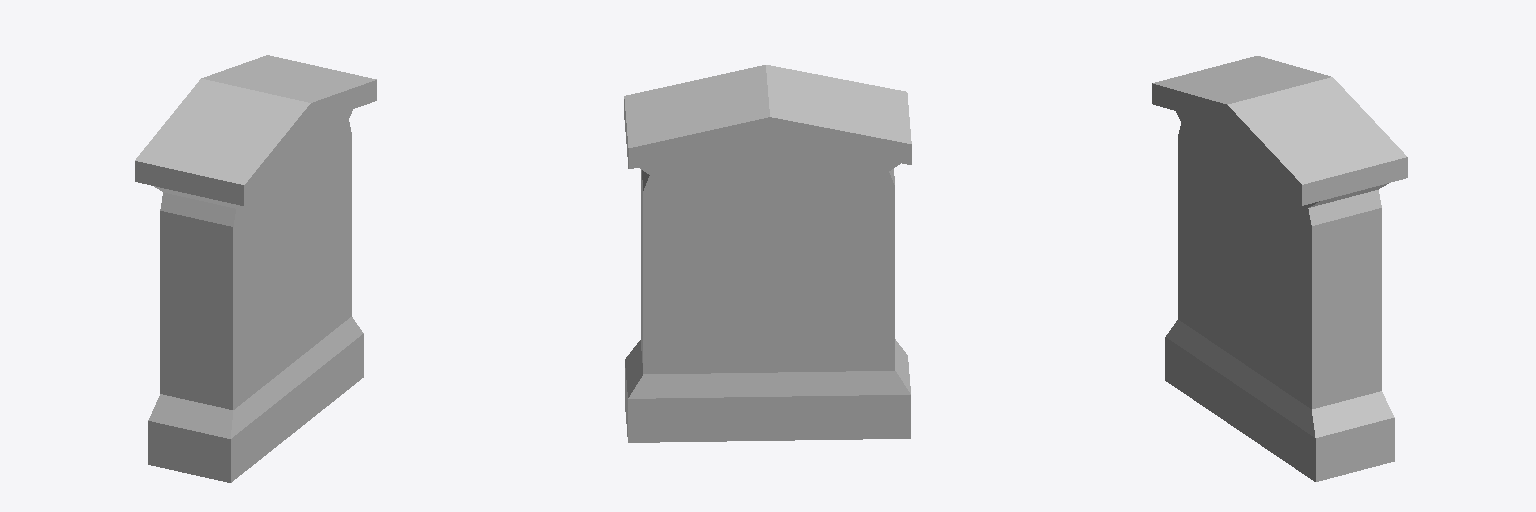
Rendered from Gravestone_Roof_3.obj.
3 renders of one model, left to right at view 1: azimuth 30°, elevation 25°; view 2: azimuth 150°, elevation 25°; view 3: azimuth 270°, elevation 25°, orthographic.
Parts seen in each view (by area): view 1: Gravestone_Roof_3; view 2: Gravestone_Roof_3; view 3: Gravestone_Roof_3.
Part boxes in pixels (left/top/right/bottom): Gravestone_Roof_3: left=135, top=55, right=376, bottom=482; Gravestone_Roof_3: left=624, top=65, right=911, bottom=442; Gravestone_Roof_3: left=1152, top=56, right=1407, bottom=481.
Bounding box in the file's own units: 0.5902 × 0.7028 × 0.4927.